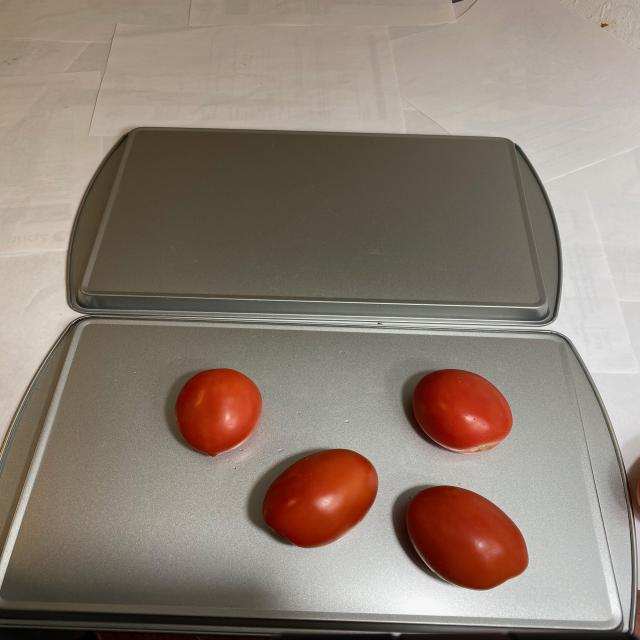tomato: (173, 366, 534, 591)
